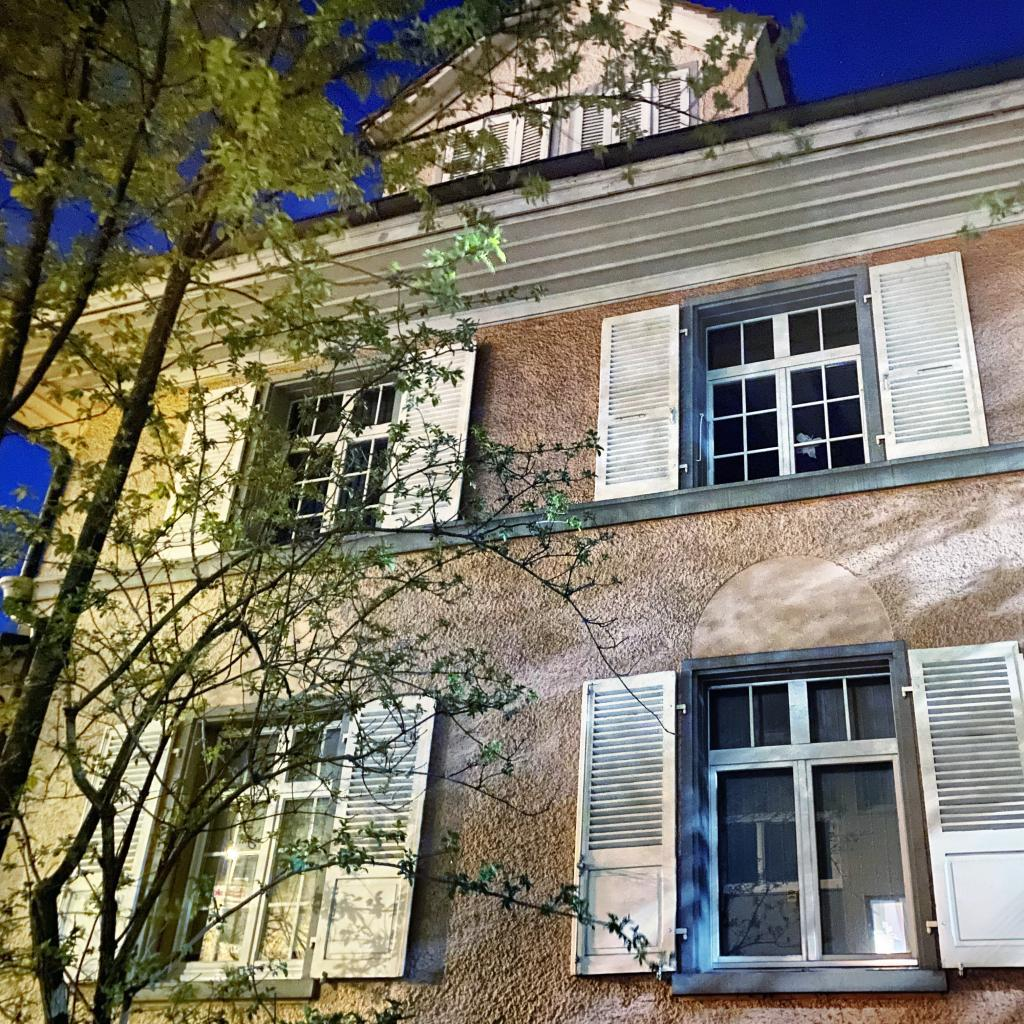facade: (0, 0, 1024, 1024)
vegetation: (0, 0, 820, 1024)
window: (705, 666, 921, 968), (150, 713, 349, 983), (703, 292, 870, 488), (262, 380, 396, 543), (575, 68, 694, 150), (440, 101, 554, 184)
